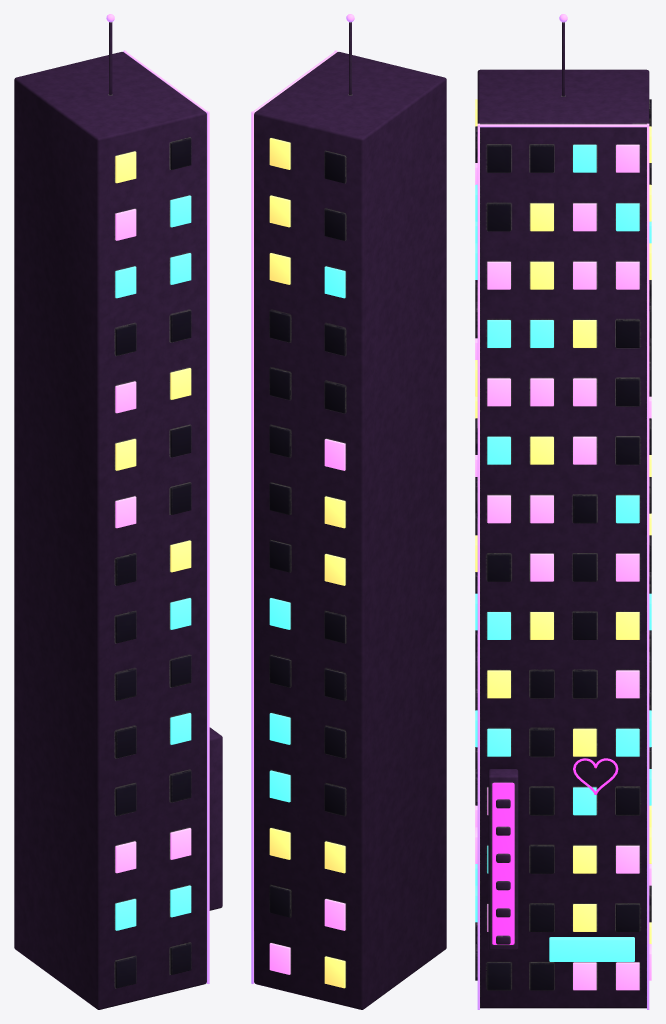
File: rn_building_c.glb
The picture shows the model from 3 angles, left to right: view 1: azimuth 30°, elevation 25°; view 2: azimuth 150°, elevation 25°; view 3: azimuth 270°, elevation 25°; orthographic projection.
Visible parts, largest first — view 1: rn_building_c; view 2: rn_building_c; view 3: rn_building_c.
Part boxes in pixels (box(x1,y1,x2,y2)): rn_building_c: box(14, 14, 222, 1009); rn_building_c: box(251, 14, 446, 1009); rn_building_c: box(475, 14, 651, 1009).
Bounding box in the file's own units: 7.25 × 49.7 × 8.22.
7 materials, 7 textured.
